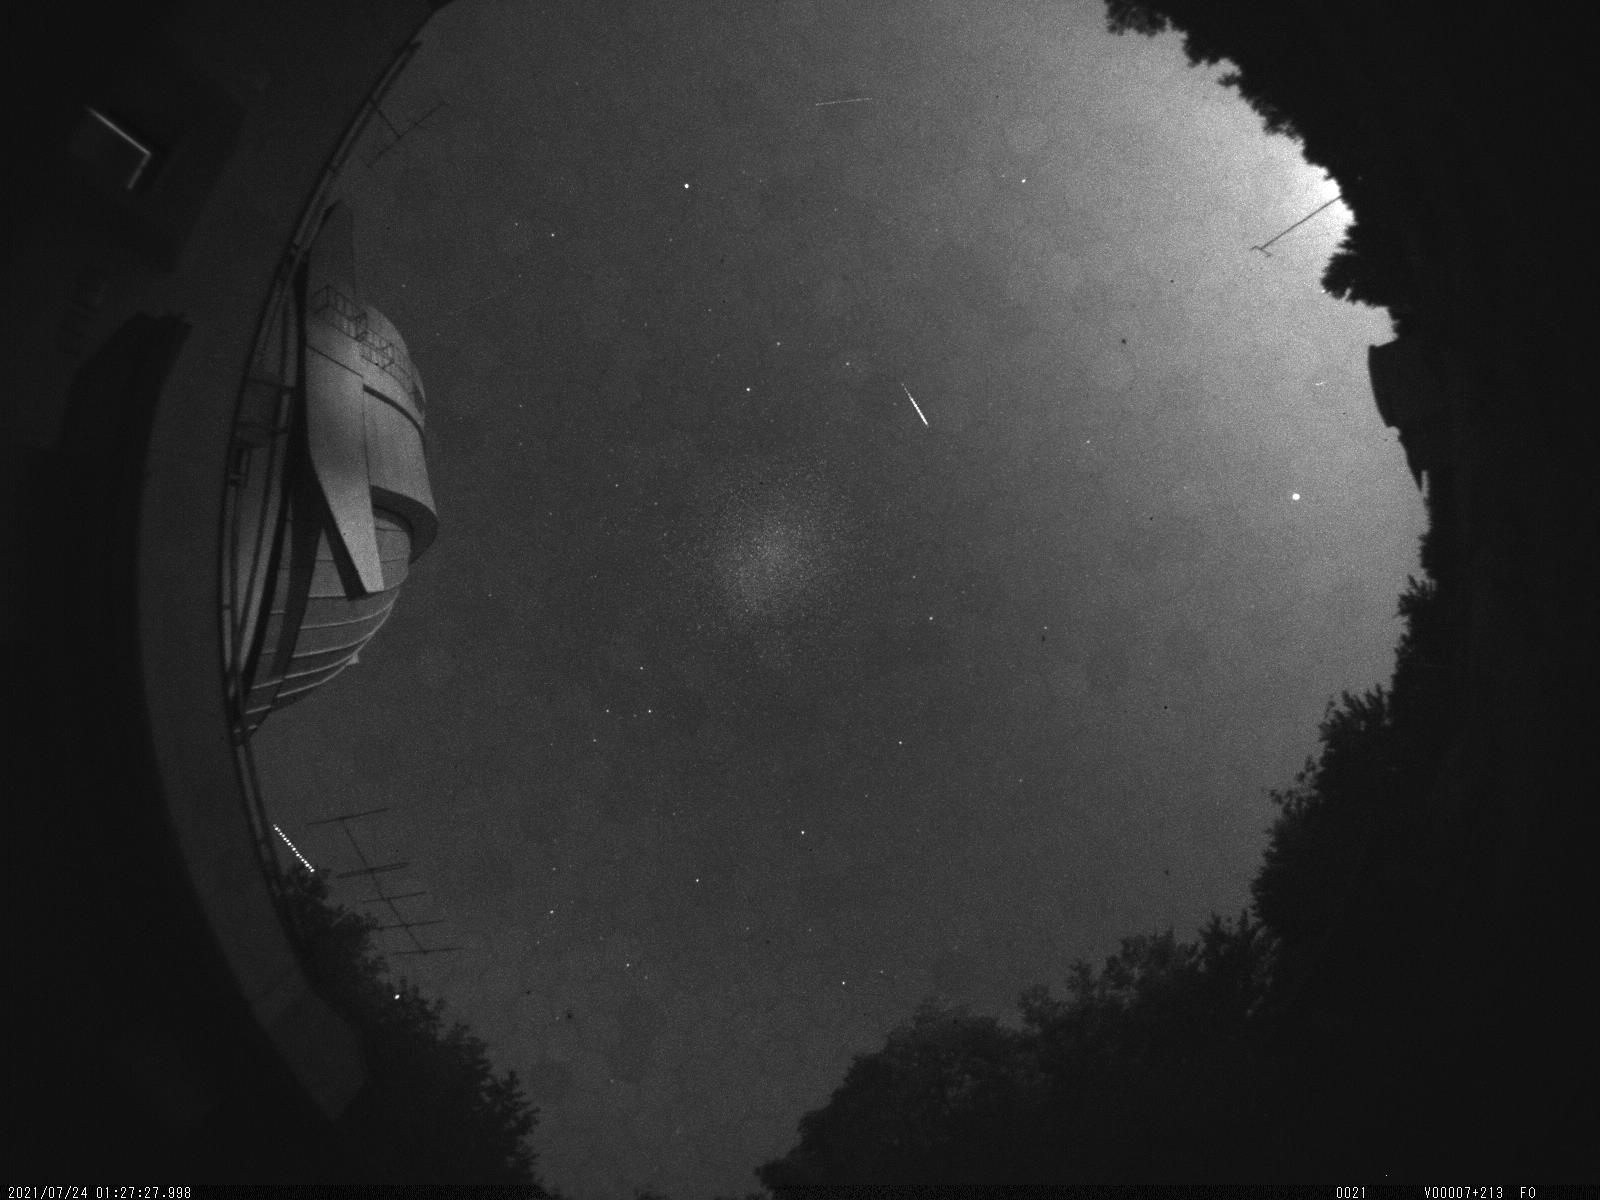Meteor: (897, 376, 940, 437)
